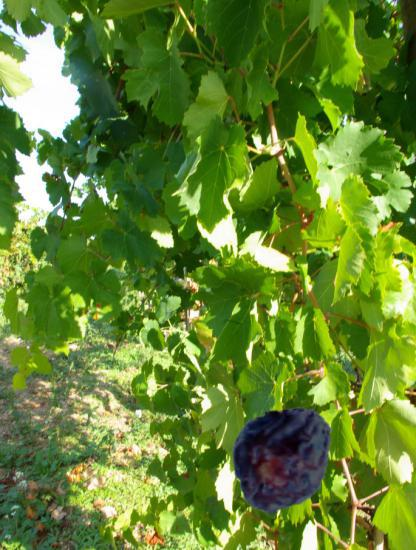Dates: (232, 407, 337, 512)
